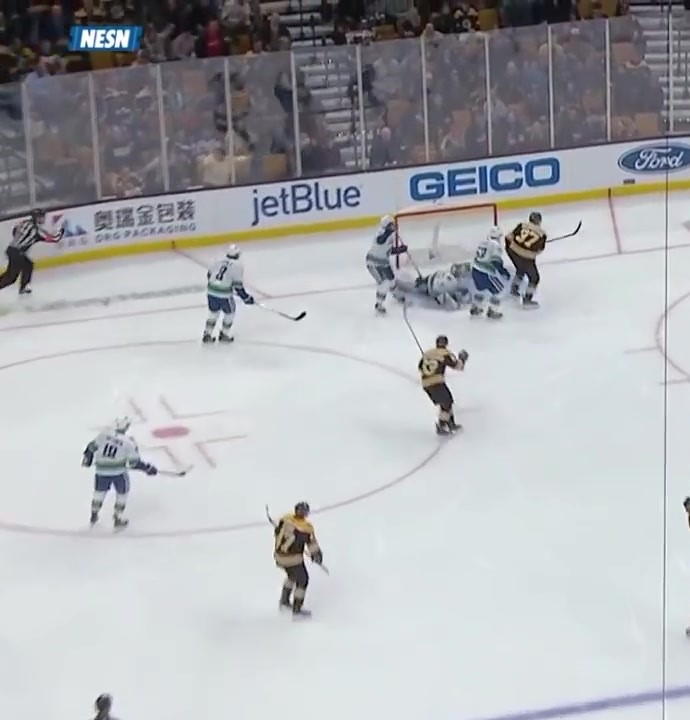Geico: (400, 156, 575, 207)
